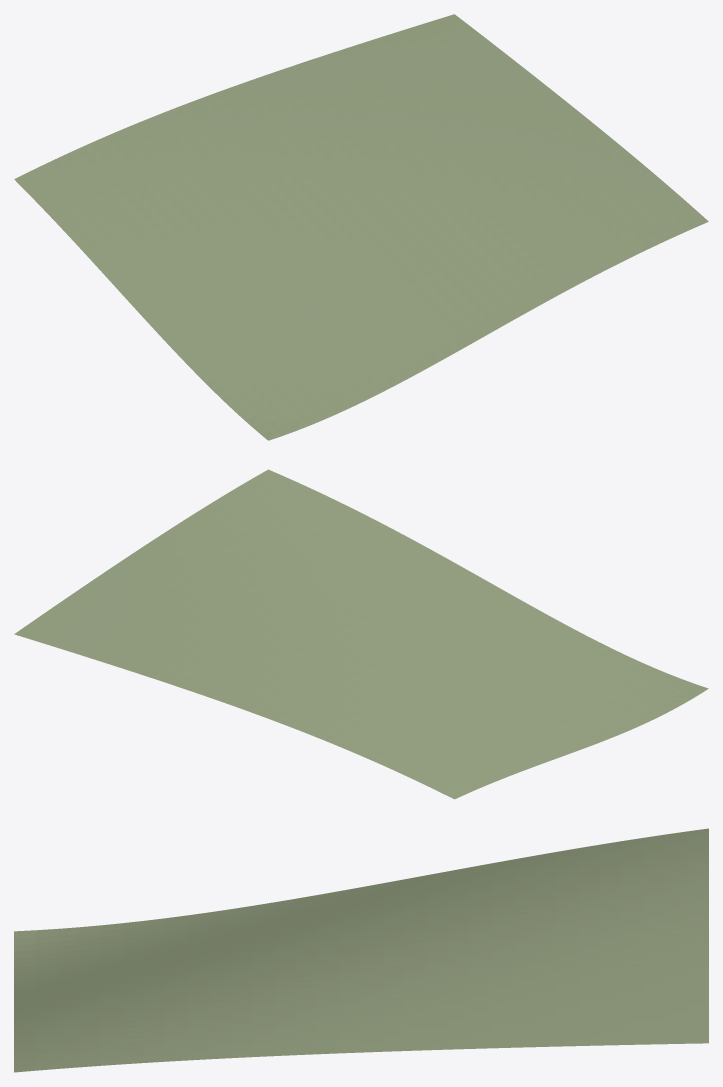
File: expanse-10-10.glb
The picture shows the model from 3 angles, top to bottom: view 1: azimuth 30°, elevation 25°; view 2: azimuth 150°, elevation 25°; view 3: azimuth 270°, elevation 25°; orthographic projection. The views are drawn at different scales.
Parts seen in each view (by area): view 1: expanse-10-10; view 2: expanse-10-10; view 3: expanse-10-10.
Boxes of the visible parts, bbox=[...] form: expanse-10-10: bbox=[14, 14, 708, 440]; expanse-10-10: bbox=[14, 469, 708, 799]; expanse-10-10: bbox=[14, 828, 708, 1072].
Size of the model in its own units: 256 by 73.84 by 256.
